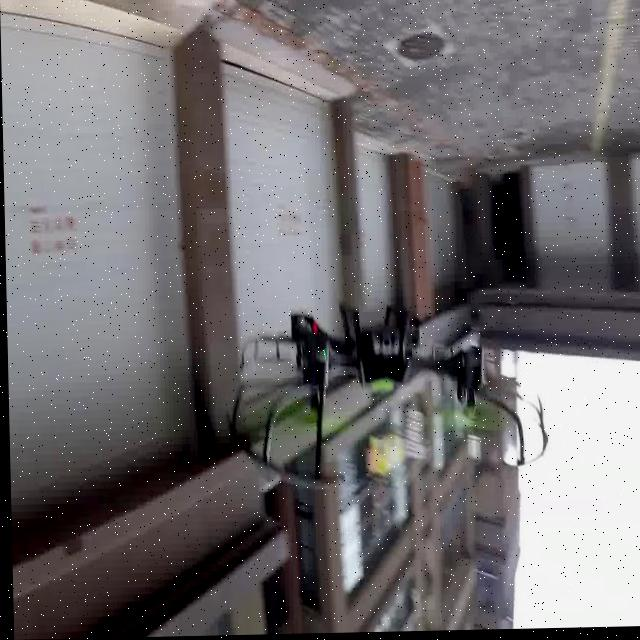drone: (216, 282, 543, 477)
